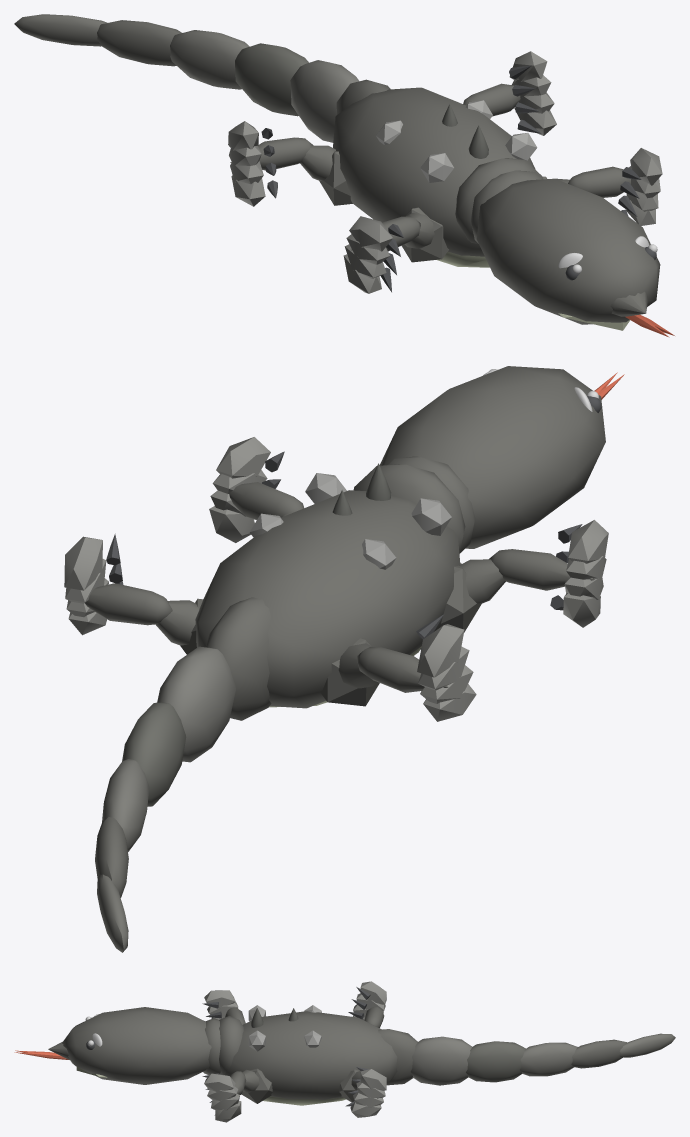
Rendered from varanus-marmoratus.glb.
3 renders of one model, top to bottom at view 1: azimuth 30°, elevation 25°; view 2: azimuth 150°, elevation 25°; view 3: azimuth 270°, elevation 25°, orthographic. The views are drawn at different scales.
Visible parts, largest first — view 1: body, head, tail2, tail1, tail3, tail4, tail5, neck0, leg0-l1, leg1-r1, toe03-r, neck1 (+21 smaller); view 2: body, head, tail1, tail0, tail2, tail3, neck0, leg1-l1, leg0-r1, leg1-r1, toe13-r, toe10-l (+12 smaller); view 3: body, head, tail1, tail2, tail3, tail0, tail4, neck0, tail5, neck1, toe10-l, toe13-r (+14 smaller).
Part boxes in pixels (x1,y1,x2,y2): body: (319,87,546,262); head: (476,178,660,330); tail2: (235,43,308,116); tail1: (290,60,358,142); tail3: (170,30,249,89); tail4: (97,20,181,66); tail5: (14,14,107,46); neck0: (455,158,543,243); leg0-l1: (568,166,630,197); leg1-r1: (230,137,313,170); toe03-r: (349,216,403,251); neck1: (471,170,542,243); body: (180,473,481,708); head: (379,366,605,548); tail1: (157,646,235,762); tail0: (205,597,271,720); tail2: (122,702,186,806); tail3: (102,759,149,851); neck0: (353,464,465,553); leg1-l1: (85,583,172,625); leg0-r1: (489,549,594,590); leg1-r1: (356,647,448,692); toe13-r: (416,614,464,677); toe10-l: (64,533,120,590); body: (220,1005,397,1103); head: (62,1007,211,1084); tail1: (410,1036,472,1085); tail2: (466,1041,525,1082); tail3: (520,1042,577,1076); tail0: (378,1029,417,1085); tail4: (571,1039,627,1068); neck0: (219,1016,243,1074); tail5: (619,1033,675,1057); neck1: (203,1018,220,1074); toe10-l: (356,1067,386,1090); toe13-r: (356,981,386,1004).
Bounding box in the file's own units: 0.8281 × 0.3745 × 2.43.
